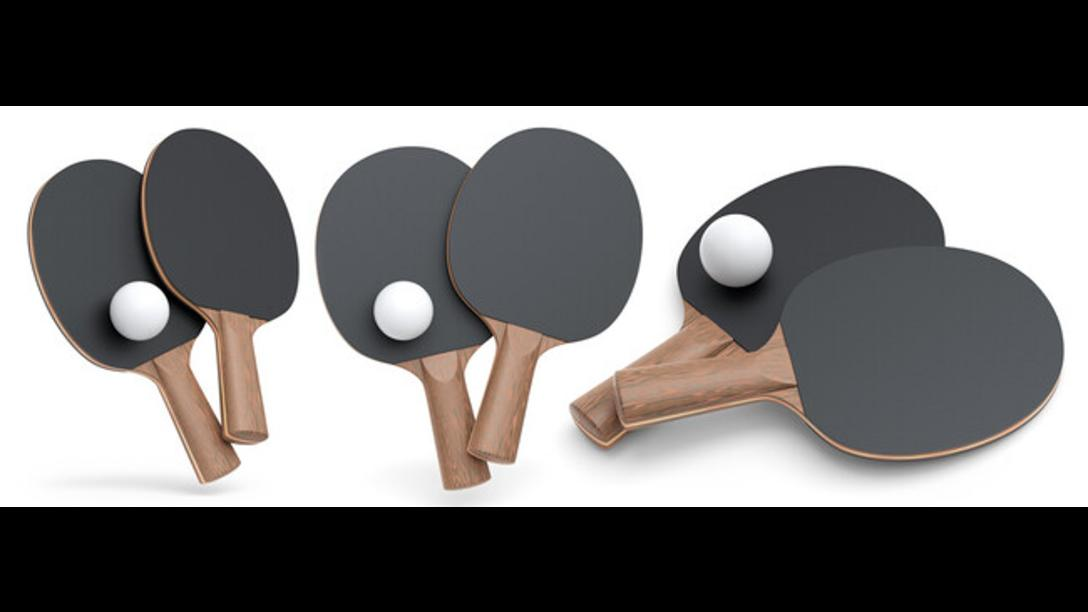Table-Tennis-Ball: (702, 214, 772, 282), (110, 281, 169, 339), (375, 280, 433, 338)
